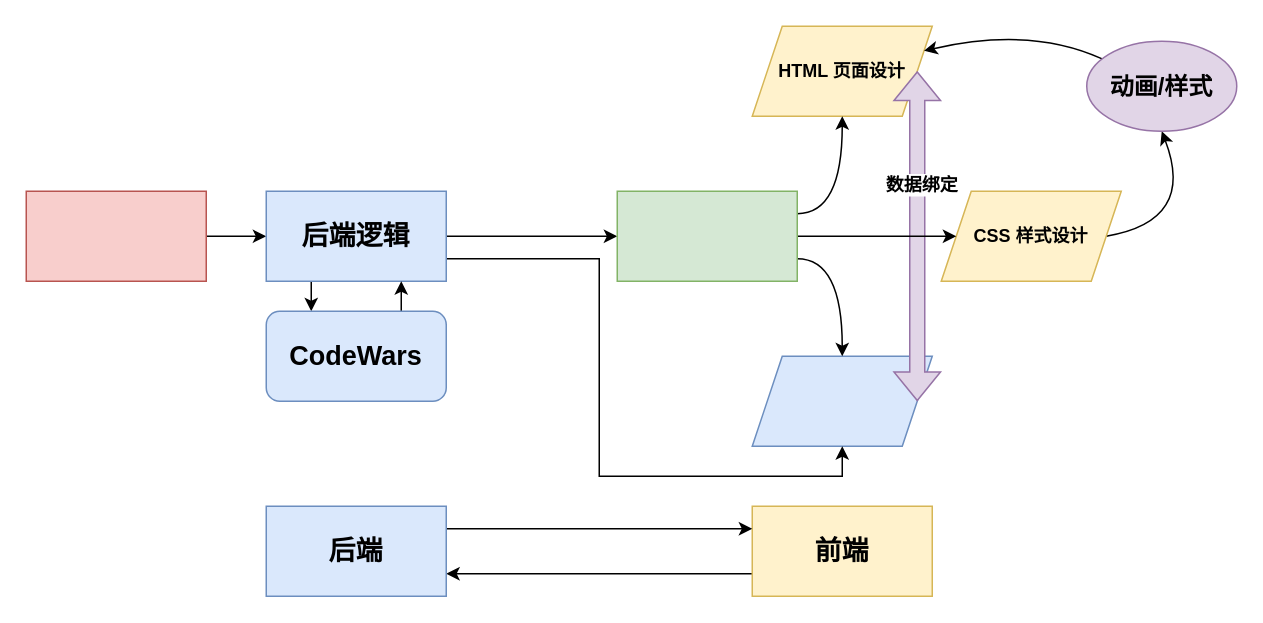
The diagram is 1263 pixels wide and 623 high, and some of its shapes have lost their labels. Here are the shapes that lost their labels. From the top down, the box of each, then its label:
(25, 190, 206, 281): 试玩游戏 观察特性
(616, 190, 797, 281): 添加TODO list
(751, 355, 932, 446): JavaScript 功能实现
